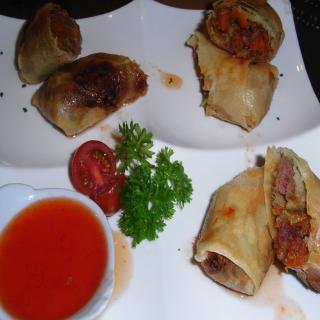tomato: (65, 140, 122, 200), (89, 170, 128, 216)
